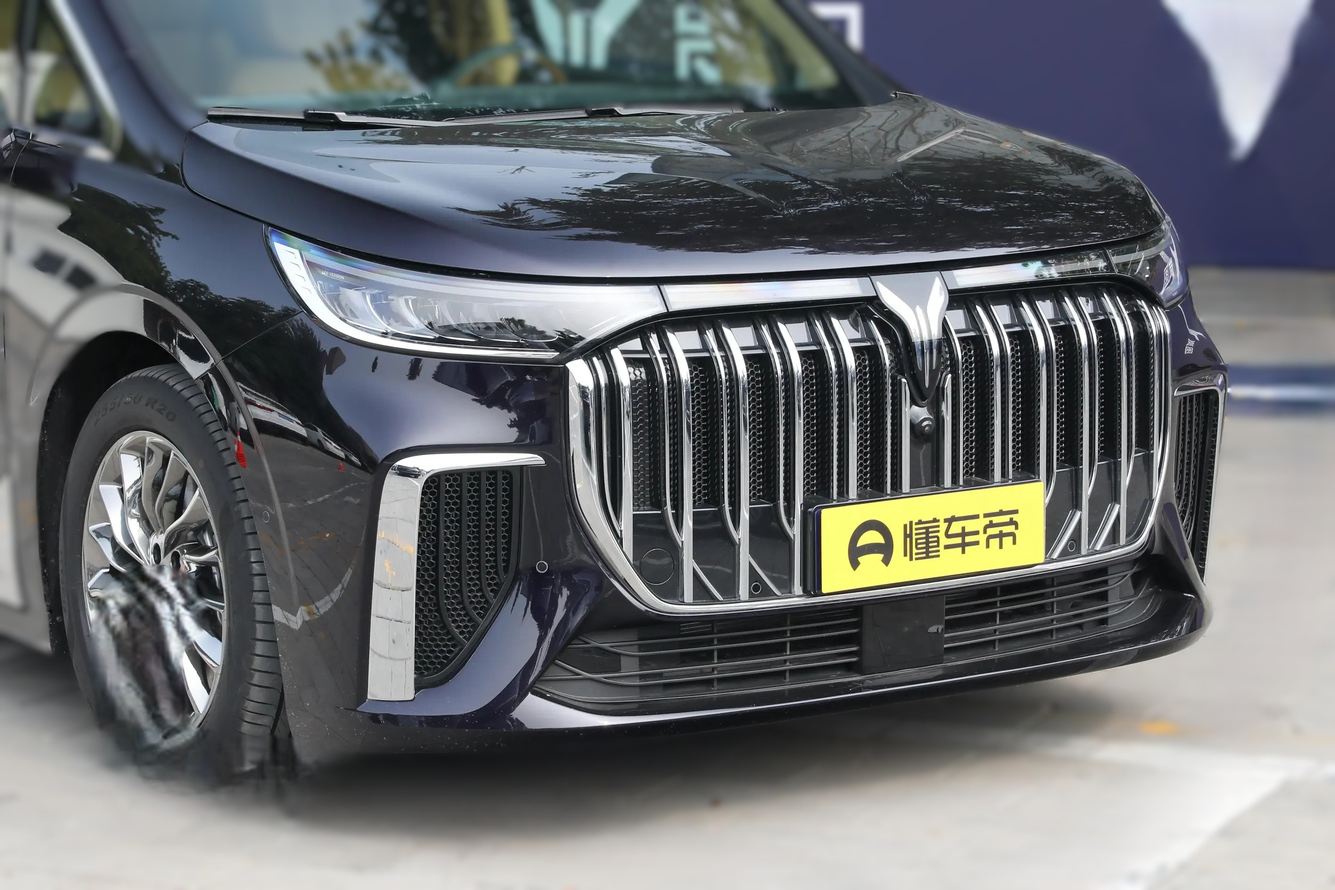VOYAH: (876, 277, 945, 399)
